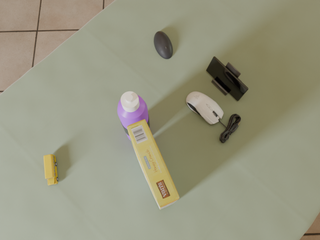bottle: (117, 92, 150, 140)
box: (127, 119, 179, 209)
mouse: (186, 92, 223, 124), (154, 31, 173, 59)
phone: (206, 57, 248, 101)
toy_car: (44, 154, 58, 185)
